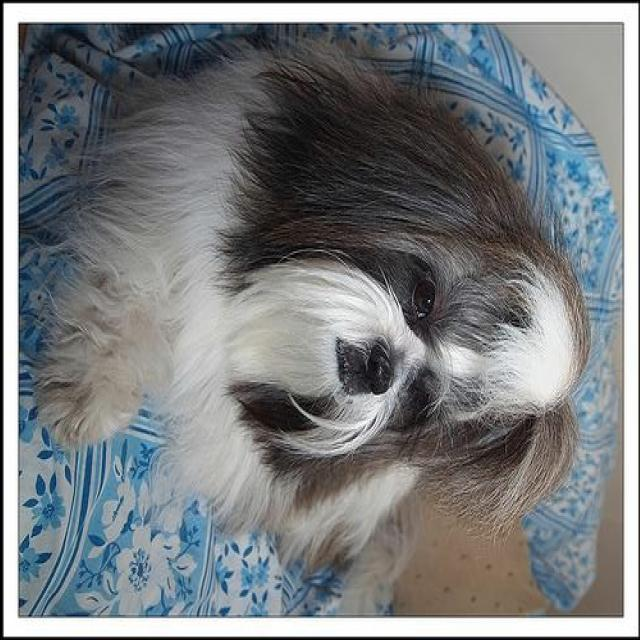shih_tzu: (36, 29, 592, 593)
